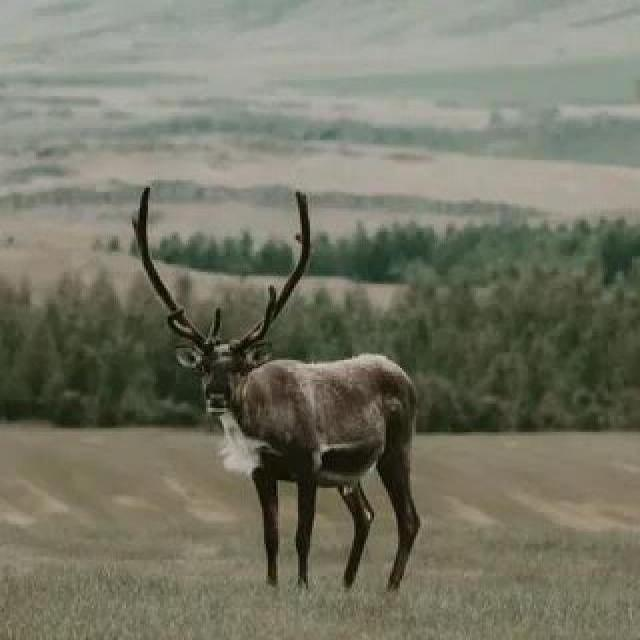deer: (136, 206, 508, 623)
